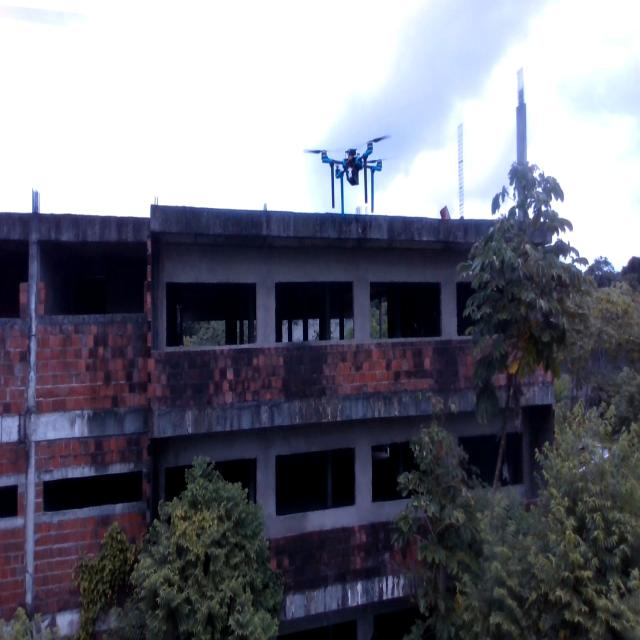-uav-: (303, 129, 395, 228)
